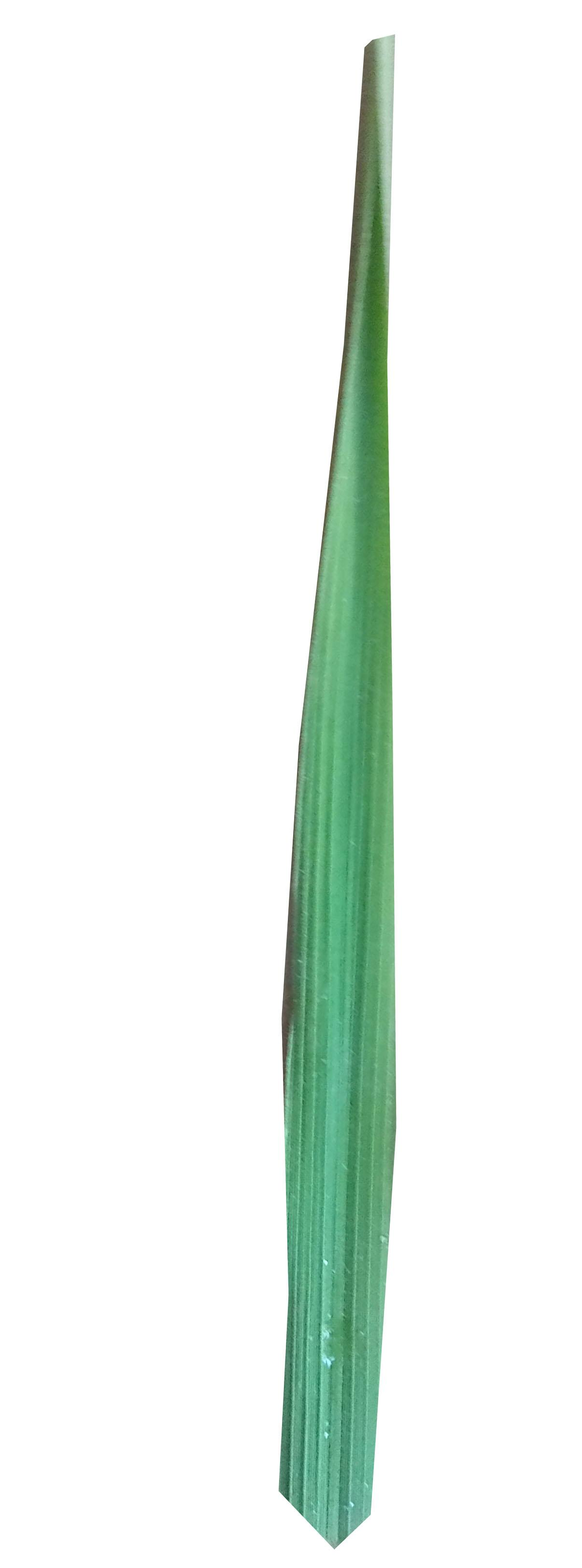Healthy: (277, 34, 398, 1555)
